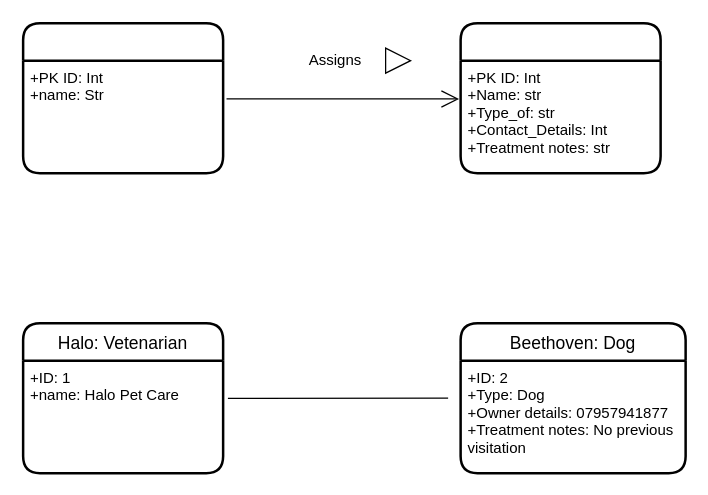
Image size: 708x495. Some labels were removed from this diagram. Here are the shapes that lost their labels. From the top down, the box of each, then its label:
(21, 21, 224, 174): Vetenarian
(459, 21, 661, 174): Animal
